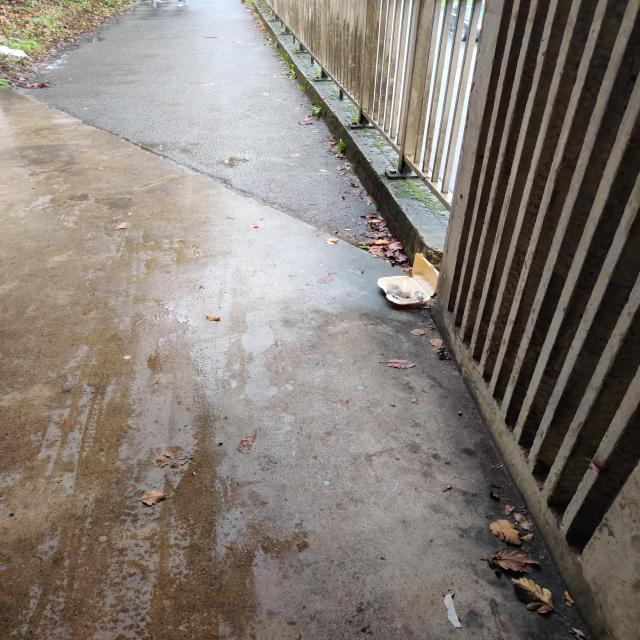litter: (374, 247, 458, 314)
